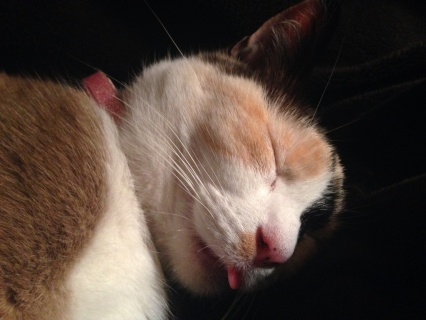Cat: (0, 0, 370, 319)
